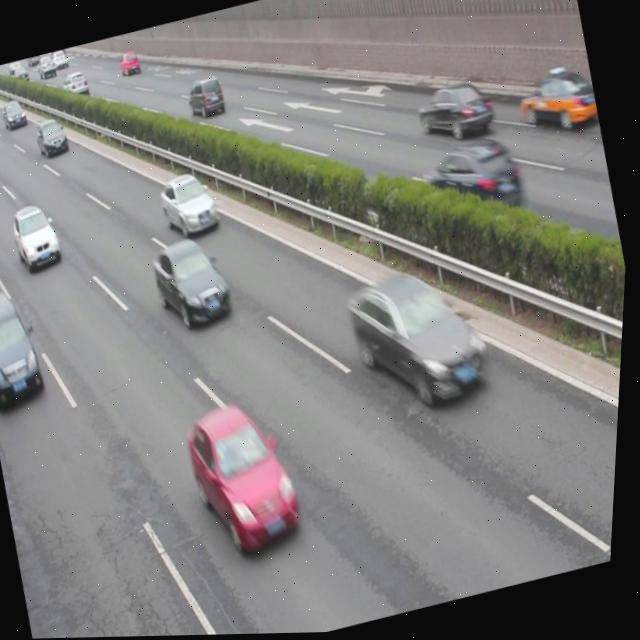car: (342, 257, 505, 425), (182, 396, 316, 566), (419, 134, 527, 229), (149, 234, 239, 332), (515, 62, 600, 142), (0, 285, 54, 410), (413, 77, 499, 148), (157, 166, 226, 242), (9, 200, 65, 269), (185, 74, 228, 120), (35, 116, 70, 155), (61, 68, 91, 98), (1, 98, 30, 129), (117, 50, 141, 77)
